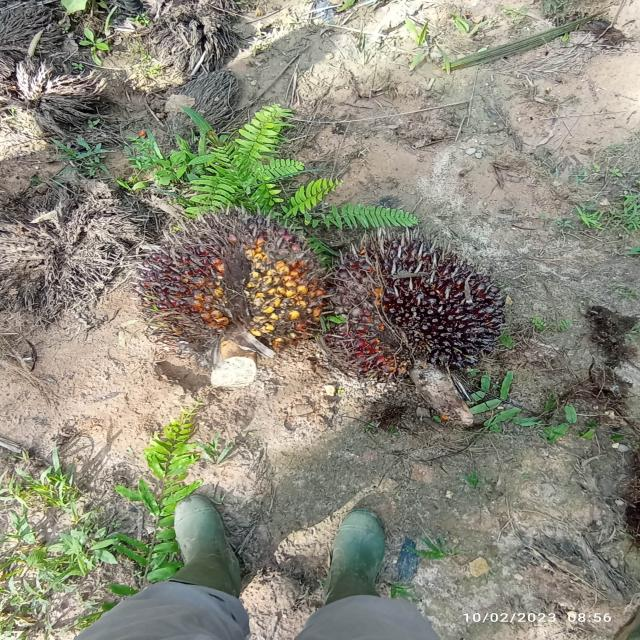fraksi 00: (329, 203, 527, 380)
fraksi 1: (139, 195, 332, 368)
